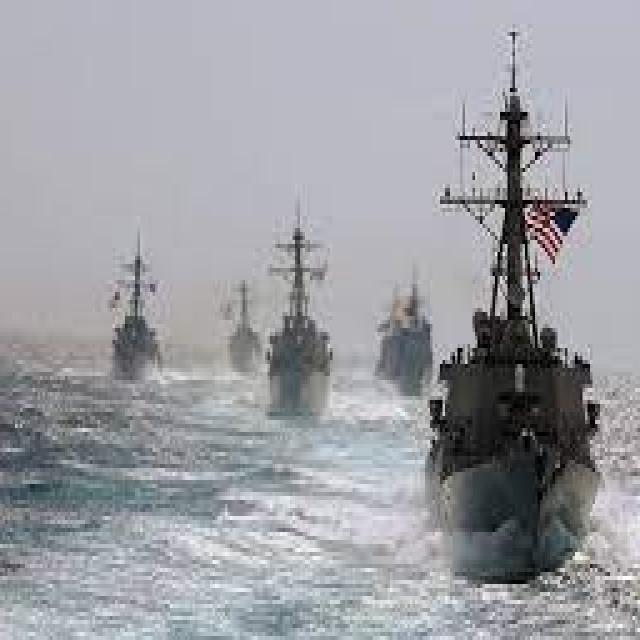navalvessels: (415, 22, 629, 574), (259, 216, 340, 434), (102, 223, 175, 390), (366, 270, 437, 384), (224, 270, 266, 382)
